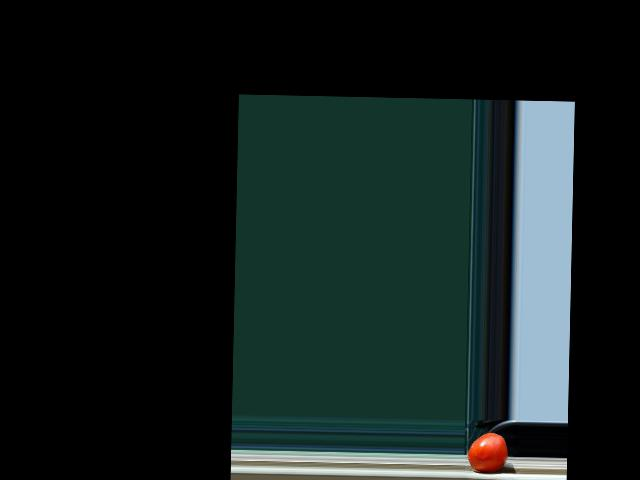tomato: (467, 432, 508, 472)
